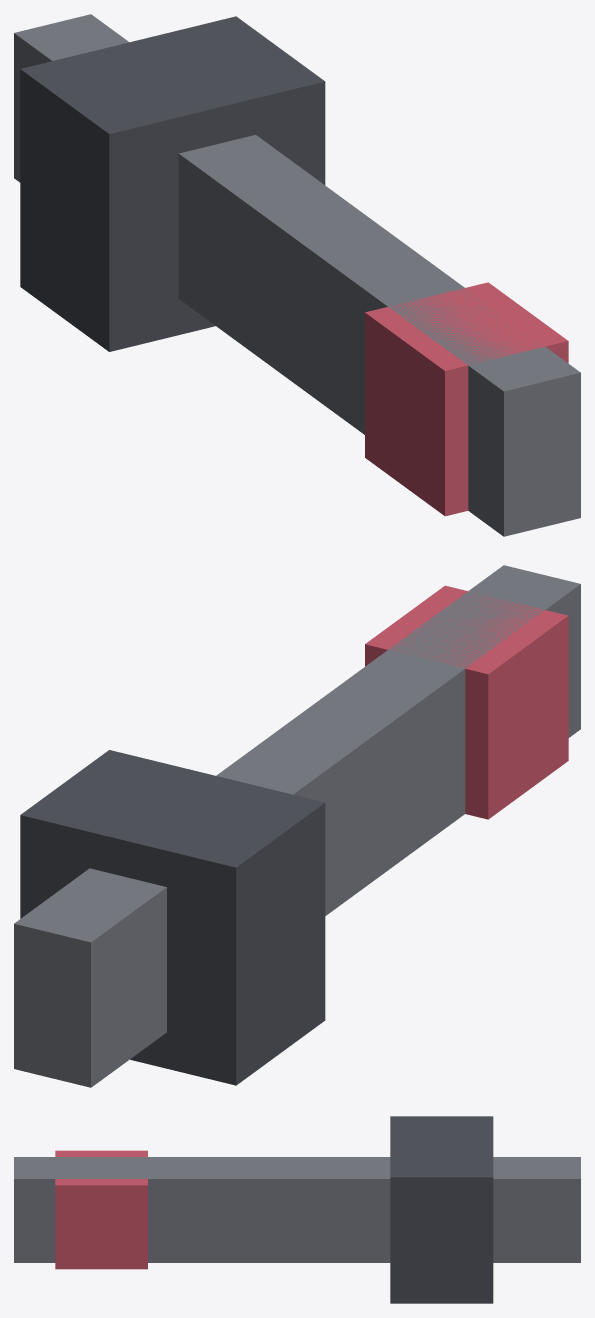
Rendered from blade_prop_v02.glb.
The picture shows the model from 3 angles, top to bottom: view 1: azimuth 30°, elevation 25°; view 2: azimuth 150°, elevation 25°; view 3: azimuth 270°, elevation 25°; orthographic projection. The views are drawn at different scales.
Visible parts, largest first — view 1: box_0, box_1, box_2; view 2: box_0, box_1, box_2; view 3: box_0, box_1, box_2.
Boxes of the visible parts, box(x1,y1,x2,y2) form: box_0: box(14, 14, 580, 536); box_1: box(20, 16, 325, 351); box_2: box(365, 282, 568, 516); box_0: box(14, 565, 580, 1087); box_1: box(20, 750, 325, 1085); box_2: box(365, 585, 568, 819); box_0: box(14, 1157, 580, 1262); box_1: box(390, 1116, 493, 1303); box_2: box(55, 1150, 147, 1269).
Size of the model in its own units: 0.28 by 0.27 by 1.1.
